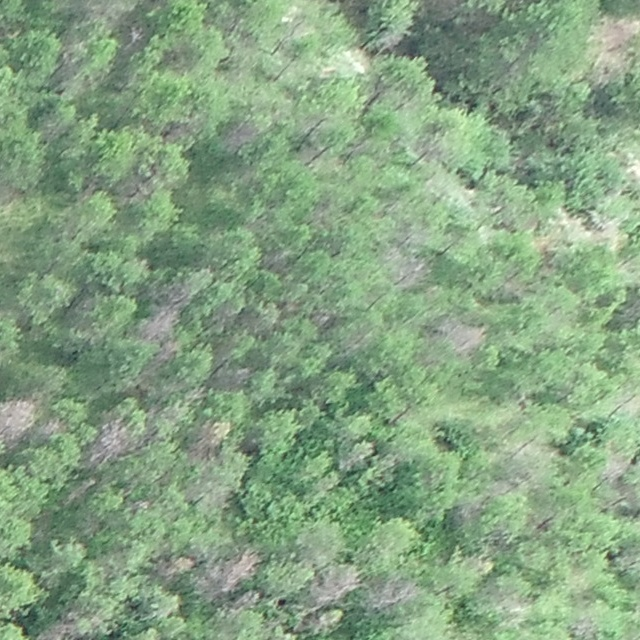unhealthy: (201, 547, 263, 600), (87, 415, 135, 465), (309, 565, 362, 606), (435, 316, 485, 356), (36, 608, 99, 639), (0, 395, 39, 445), (368, 576, 422, 612), (386, 250, 432, 289), (188, 419, 231, 460), (139, 303, 184, 340), (220, 119, 259, 153), (54, 38, 85, 79), (301, 607, 343, 636), (115, 172, 152, 204), (337, 441, 374, 471), (154, 554, 193, 582), (63, 477, 97, 507), (216, 364, 254, 390), (165, 115, 203, 141), (39, 112, 71, 140), (602, 452, 630, 484), (152, 341, 182, 369), (569, 612, 599, 639), (262, 246, 292, 270), (227, 595, 263, 614), (39, 417, 69, 438), (124, 25, 148, 49)
